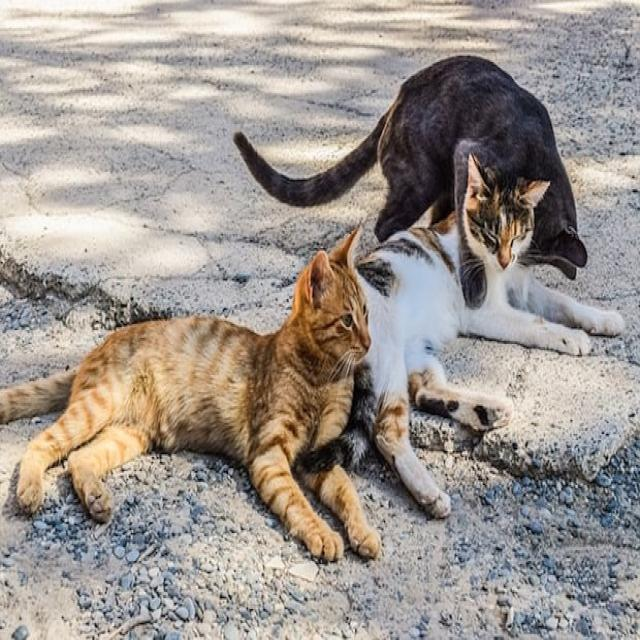cat: (0, 231, 370, 560), (298, 154, 624, 517), (238, 56, 588, 308), (309, 465, 380, 557)
